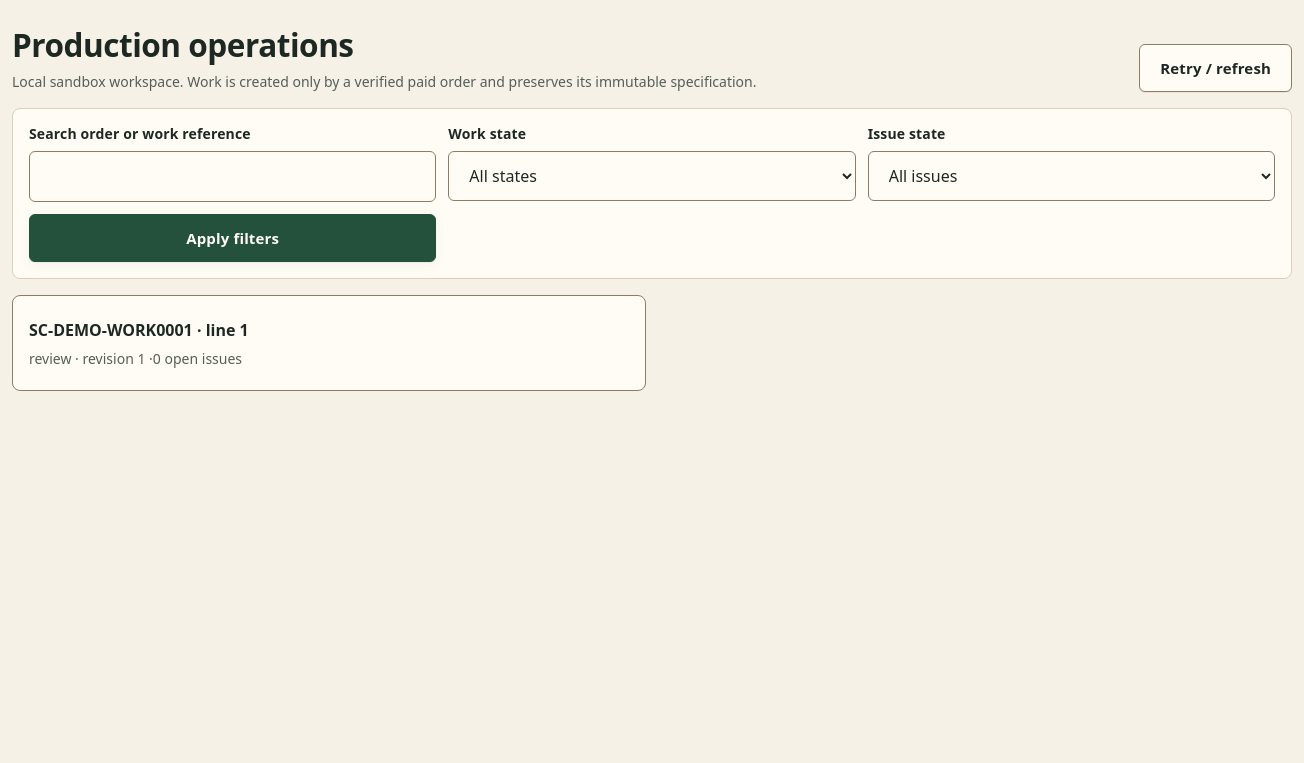
Scenario: a work step button that is replaced hands focus to the work heading
Click the button "SC-DEMO-WORK0001 · line 1 review · revision 1 ·0 open issues". click: (111, 330)
box: left=12, top=295, right=646, bottom=391
(page scrolled)
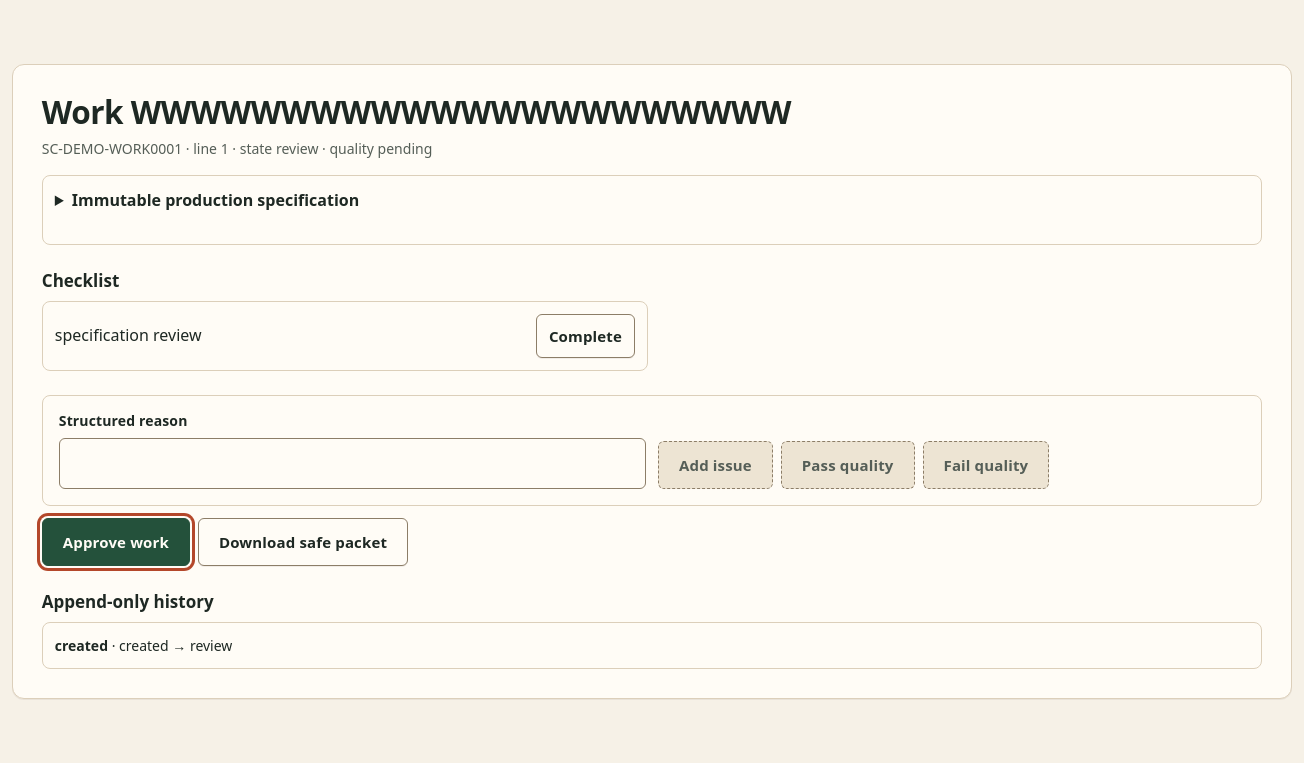
Click the button "Approve work". click: (116, 542)
box: left=42, top=518, right=190, bottom=566
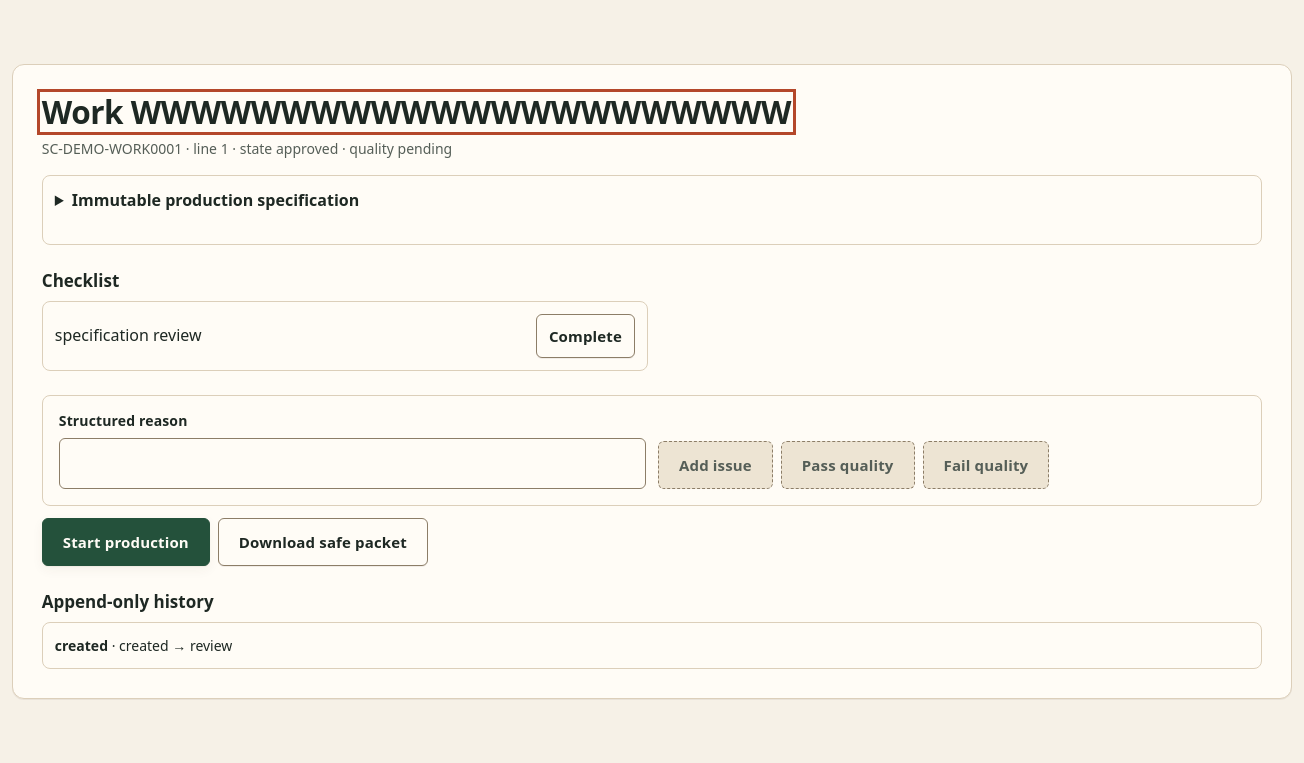
Expected: the button "Start production" is shown, left=42, top=518, right=210, bottom=566
Expected: the button "Approve work" is gone
